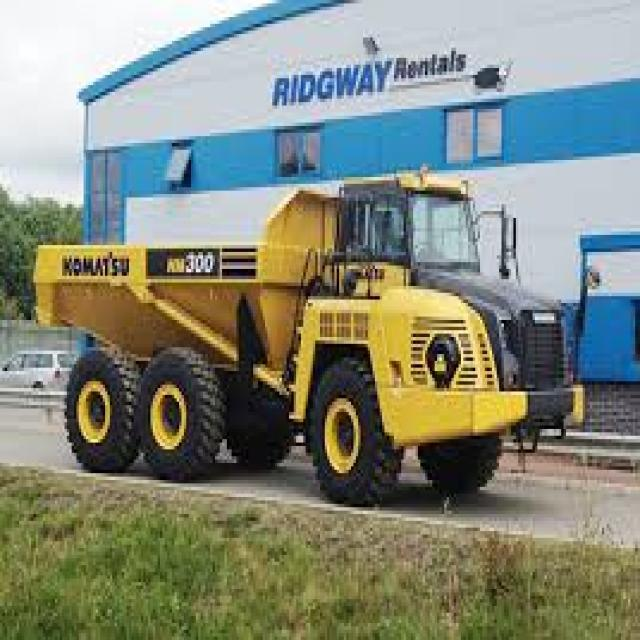dump_truck: (31, 157, 597, 531)
